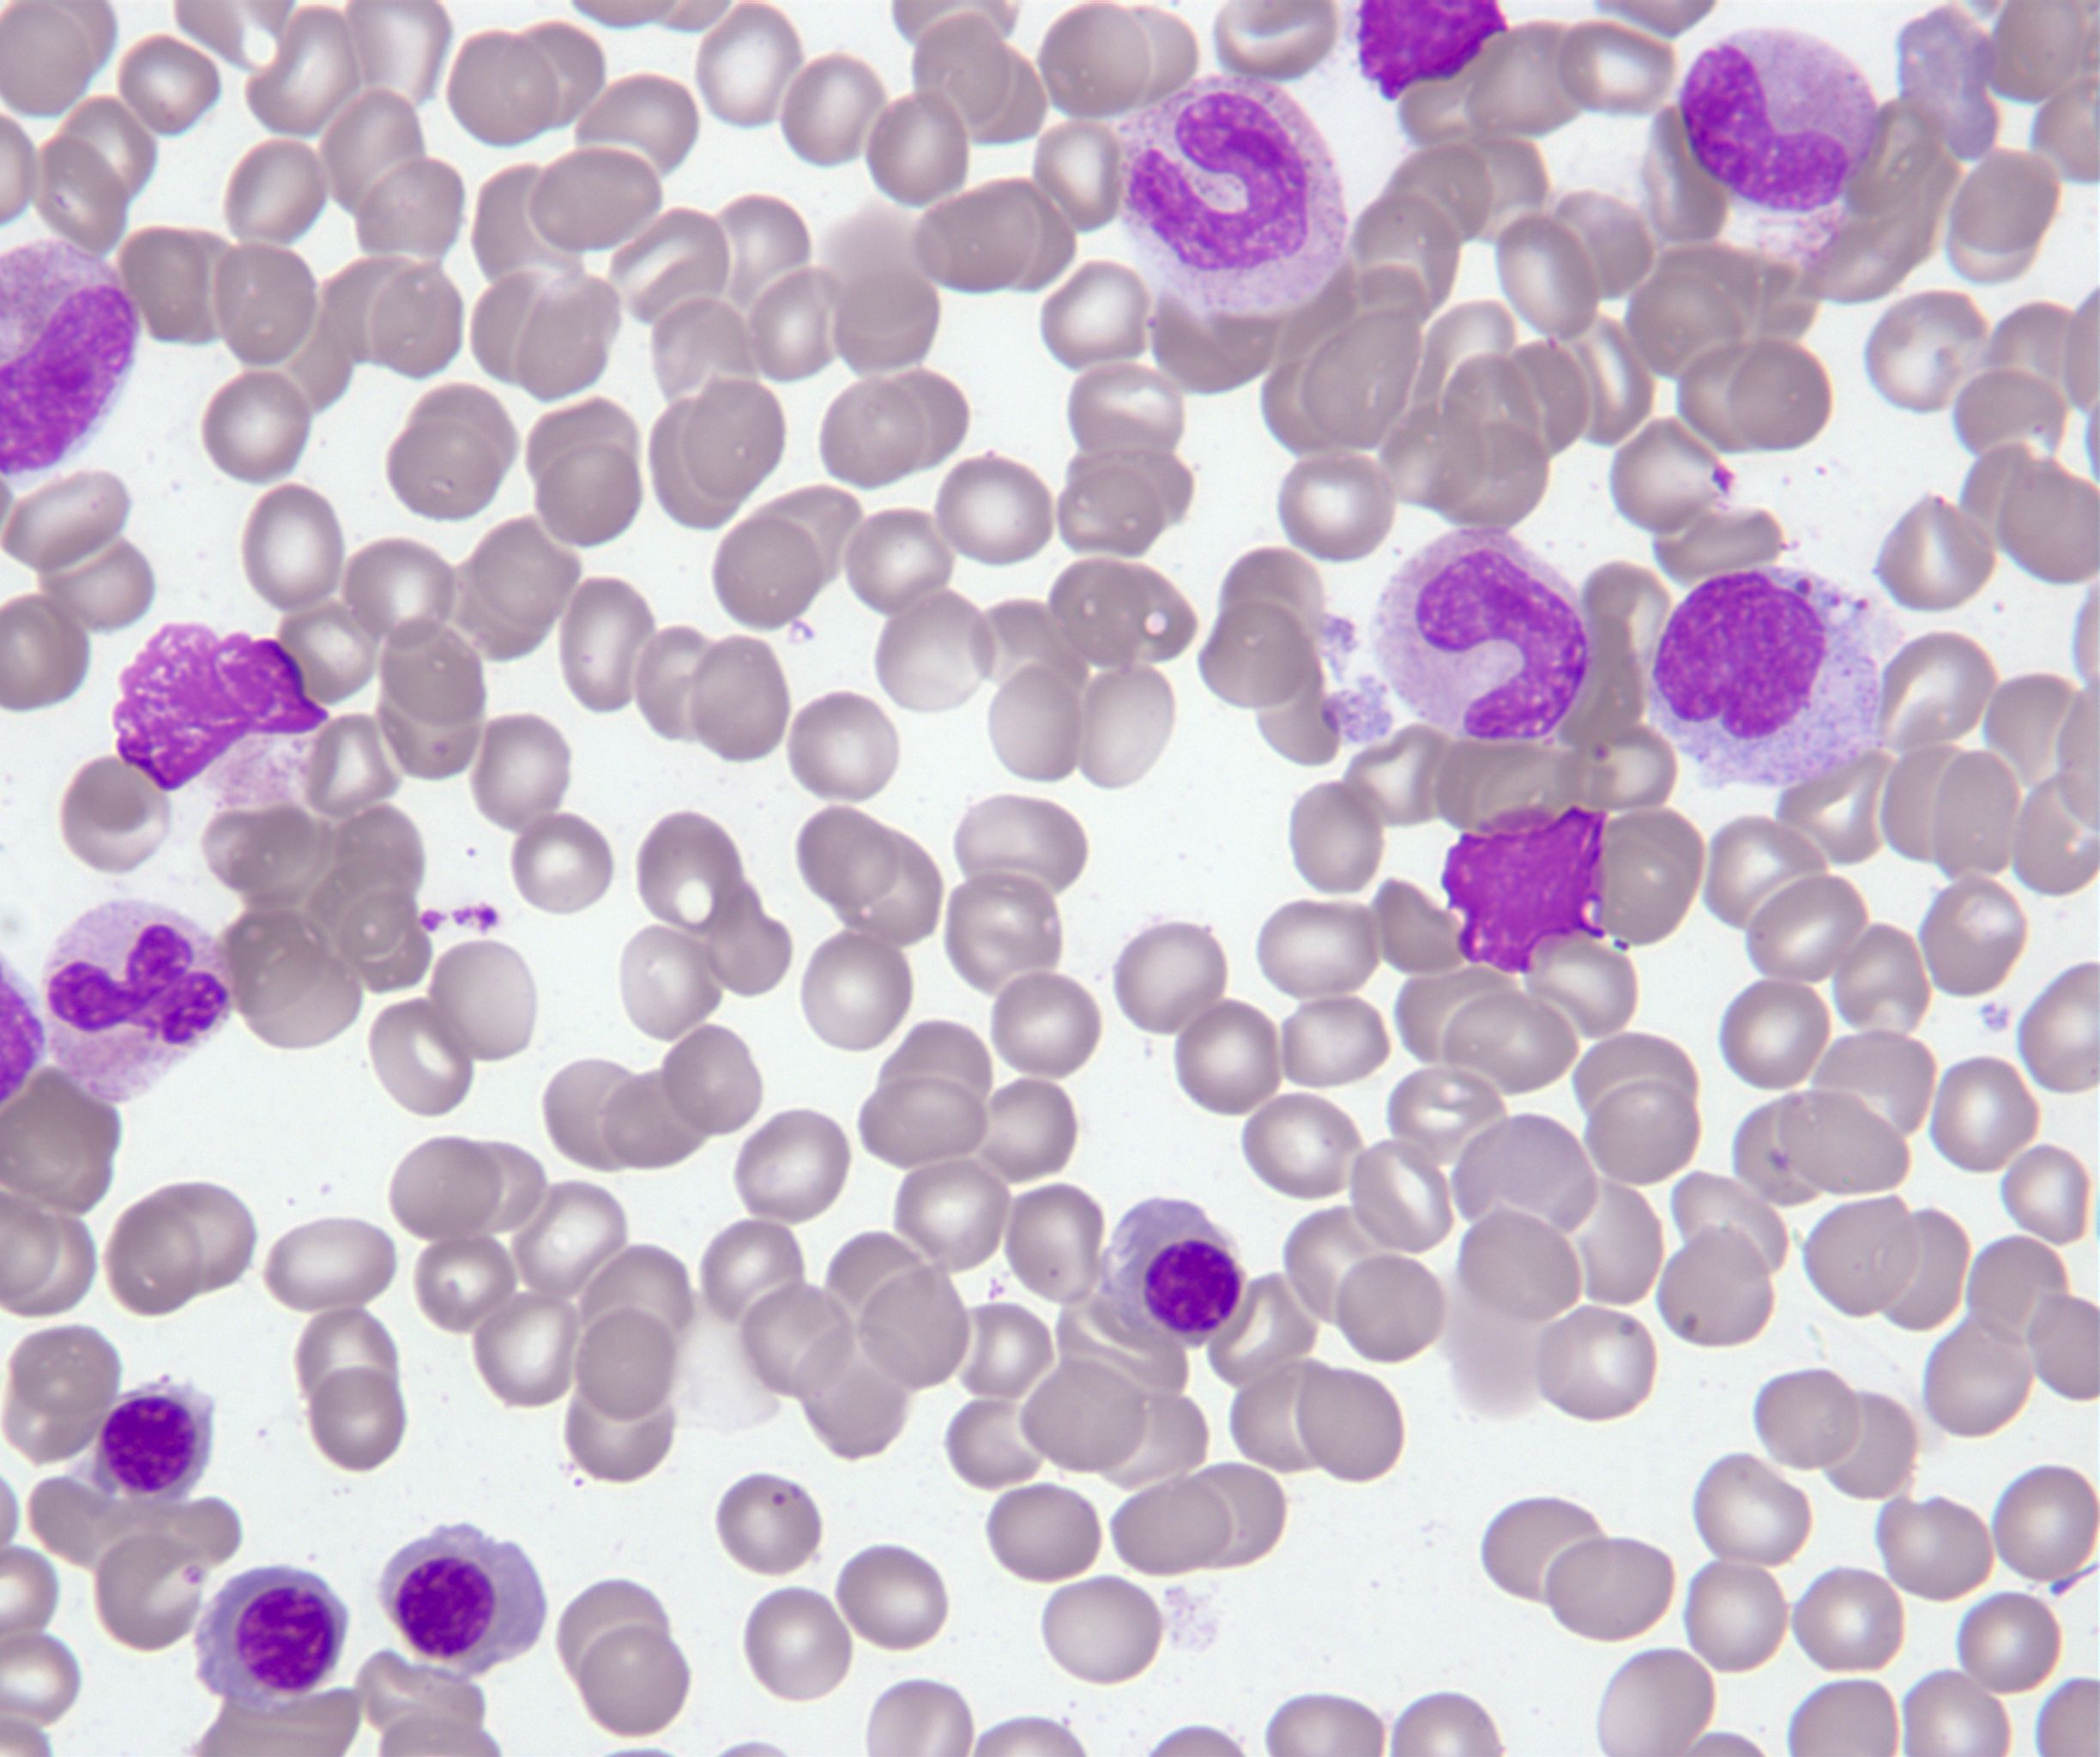24: (375, 1523, 551, 1680), (190, 1562, 351, 1717), (1090, 1195, 1251, 1347), (85, 1380, 220, 1513)
4: (1638, 558, 1889, 790), (1674, 24, 1887, 216), (0, 234, 145, 487)
5: (1109, 72, 1352, 326), (1366, 520, 1591, 755)
6: (33, 895, 241, 1110)
x: (1435, 799, 1612, 977)
